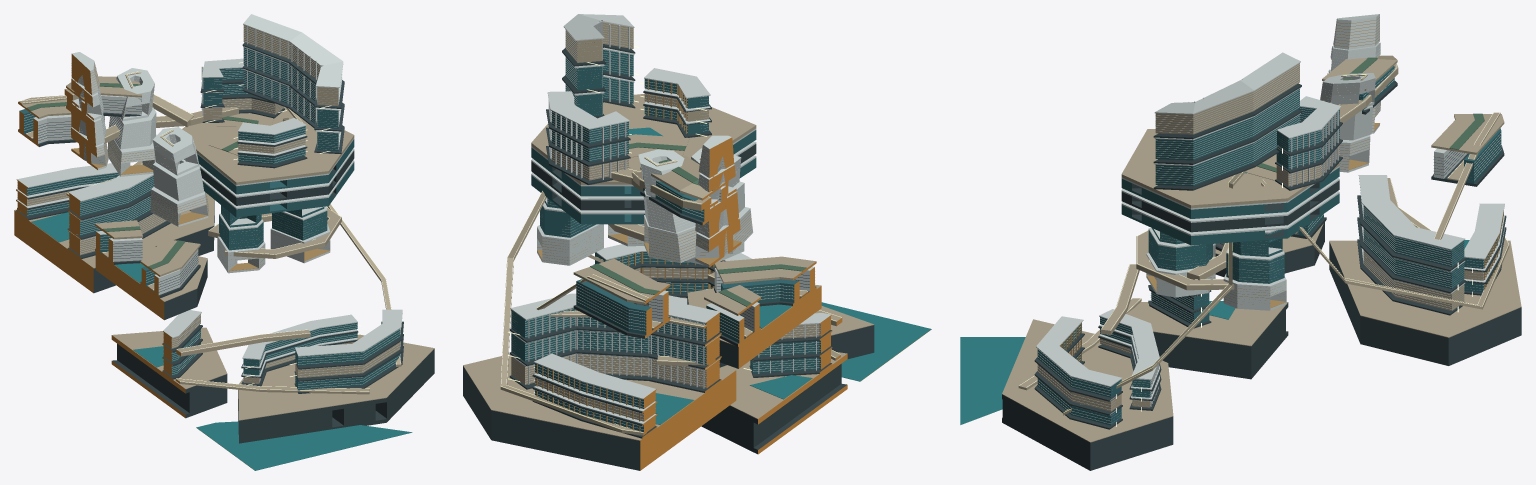
3 renders of one model, left to right at view 1: azimuth 30°, elevation 25°; view 2: azimuth 150°, elevation 25°; view 3: azimuth 270°, elevation 25°, orthographic. The views are drawn at different scales.
Visible parts, largest first — view 1: A_EAST_deep_public_land, A_INLAND_SEA, A_EAST_public_surface, H_CONTINUOUS_TOP_GROUND, A_INNER_deep_public_land, C_REAR_DELTA_deep_public_land, F_INNER_CITY_deep_public_land, H_EASTERN_RIDGE_roof_avenue_2, A_INNER_public_surface, H_EASTERN_RIDGE_inhabited_depth_2, H_EASTERN_RIDGE_inhabited_depth_1, H_EASTERN_RIDGE_inhabited_depth_0 (+62 smaller); view 2: C_REAR_DELTA_deep_public_land, A_INNER_deep_public_land, C_REAR_DELTA_public_surface, C_REAR_CIVILIZATION_inhabited_depth_1, H_CONTINUOUS_TOP_GROUND, A_INLAND_SEA, C_REAR_CIVILIZATION_inhabited_depth_0, T_REAR_LINK_public_deck, F_INNER_CITY_deep_public_land, N_REAR_HIGH_CITY_inner_urban_shore, C_REAR_CIVILIZATION_inhabited_depth_2, A_INNER_public_surface (+58 smaller); view 3: A_EAST_public_surface, C_REAR_DELTA_public_surface, C_REAR_DELTA_deep_public_land, A_EAST_deep_public_land, H_CONTINUOUS_TOP_GROUND, A_INNER_deep_public_land, A_INLAND_SEA, A_INNER_public_surface, H_EASTERN_RIDGE_inhabited_depth_2, H_EASTERN_RIDGE_inhabited_depth_1, H_EASTERN_RIDGE_inhabited_depth_0, C_REAR_CIVILIZATION_roof_avenue_2 (+45 smaller).
Part boxes in pixels (x1,y1,x2,y2): A_EAST_deep_public_land: [238, 349, 434, 443]; A_INLAND_SEA: [196, 421, 412, 470]; A_EAST_public_surface: [238, 334, 434, 420]; H_CONTINUOUS_TOP_GROUND: [182, 107, 354, 184]; A_INNER_deep_public_land: [111, 336, 227, 418]; C_REAR_DELTA_deep_public_land: [14, 200, 214, 293]; F_INNER_CITY_deep_public_land: [95, 252, 207, 320]; H_EASTERN_RIDGE_roof_avenue_2: [243, 14, 343, 87]; A_INNER_public_surface: [111, 327, 227, 389]; H_EASTERN_RIDGE_inhabited_depth_2: [243, 25, 338, 106]; H_EASTERN_RIDGE_inhabited_depth_1: [243, 47, 338, 128]; H_EASTERN_RIDGE_inhabited_depth_0: [243, 70, 338, 151]; C_REAR_DELTA_deep_public_land: [463, 366, 736, 470]; A_INNER_deep_public_land: [701, 354, 847, 454]; C_REAR_DELTA_public_surface: [463, 354, 736, 440]; C_REAR_CIVILIZATION_inhabited_depth_1: [511, 330, 719, 364]; H_CONTINUOUS_TOP_GROUND: [531, 93, 756, 184]; A_INLAND_SEA: [821, 302, 931, 381]; C_REAR_CIVILIZATION_inhabited_depth_0: [511, 354, 719, 388]; T_REAR_LINK_public_deck: [500, 191, 646, 435]; F_INNER_CITY_deep_public_land: [687, 286, 821, 368]; N_REAR_HIGH_CITY_inner_urban_shore: [576, 279, 651, 334]; C_REAR_CIVILIZATION_inhabited_depth_2: [511, 308, 719, 341]; A_INNER_public_surface: [721, 352, 847, 419]; A_EAST_public_surface: [1002, 319, 1173, 442]; C_REAR_DELTA_public_surface: [1329, 240, 1521, 337]; C_REAR_DELTA_deep_public_land: [1329, 242, 1521, 365]; A_EAST_deep_public_land: [1002, 394, 1173, 470]; H_CONTINUOUS_TOP_GROUND: [1121, 129, 1339, 208]; A_INNER_deep_public_land: [1153, 303, 1288, 379]; A_INLAND_SEA: [960, 337, 1025, 424]; A_INNER_public_surface: [1127, 302, 1288, 346]; H_EASTERN_RIDGE_inhabited_depth_2: [1155, 63, 1299, 134]; H_EASTERN_RIDGE_inhabited_depth_1: [1155, 89, 1299, 160]; H_EASTERN_RIDGE_inhabited_depth_0: [1155, 114, 1299, 185]; C_REAR_CIVILIZATION_roof_avenue_2: [1358, 175, 1465, 249].
Bounding box in the file's own units: 3000 × 3810 × 5400.
